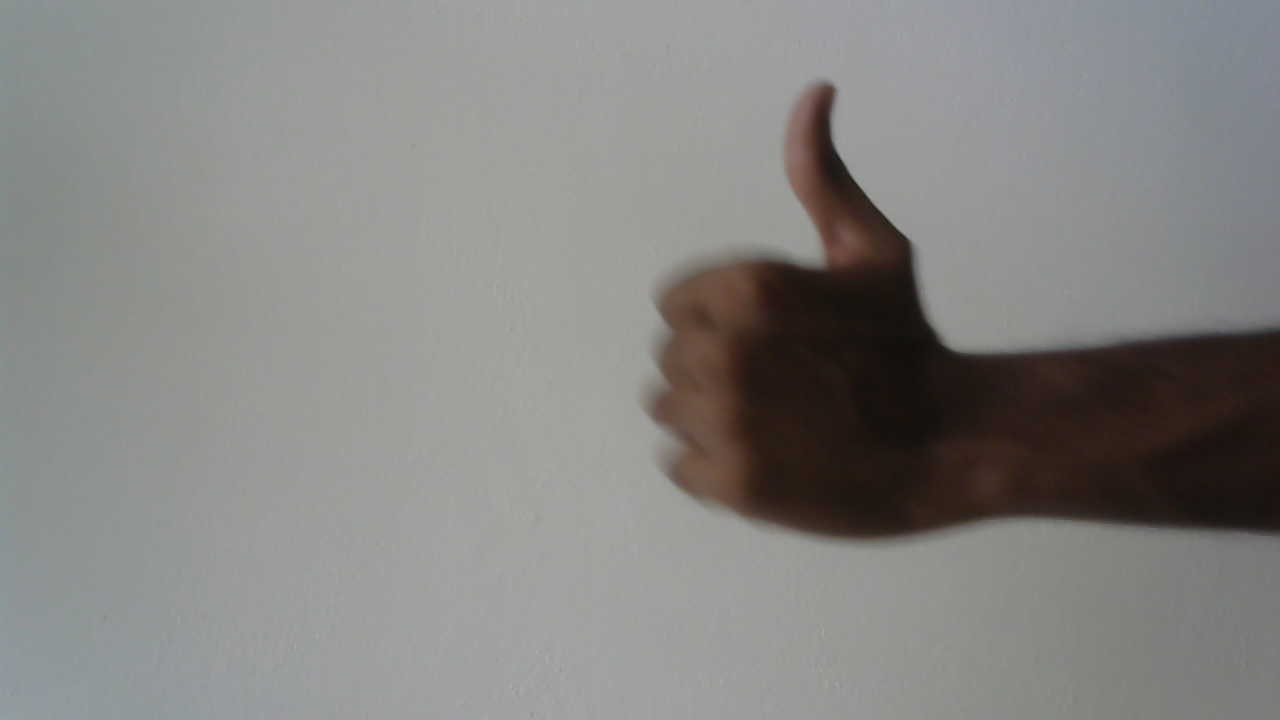thumbsup: (617, 63, 984, 560)
